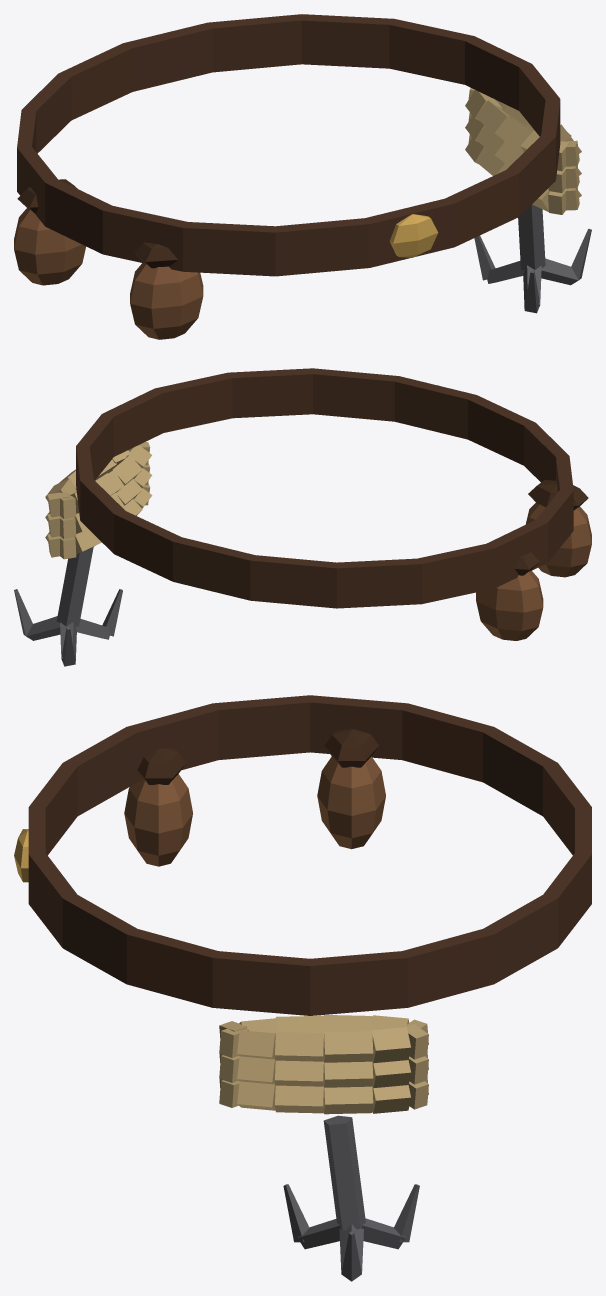
The model's file is kitewing_belt.glb.
The picture shows the model from 3 angles, top to bottom: view 1: azimuth 30°, elevation 25°; view 2: azimuth 150°, elevation 25°; view 3: azimuth 270°, elevation 25°; orthographic projection. The views are drawn at different scales.
Visible parts, largest first — view 1: kitewing_belt; view 2: kitewing_belt; view 3: kitewing_belt.
Boxes of the visible parts, x1=… form: kitewing_belt: x1=14, y1=14, x2=591, y2=339; kitewing_belt: x1=14, y1=368, x2=591, y2=666; kitewing_belt: x1=14, y1=695, x2=591, y2=1281.
Size of the model in its own units: 1.1 by 0.4534 by 0.8387.
